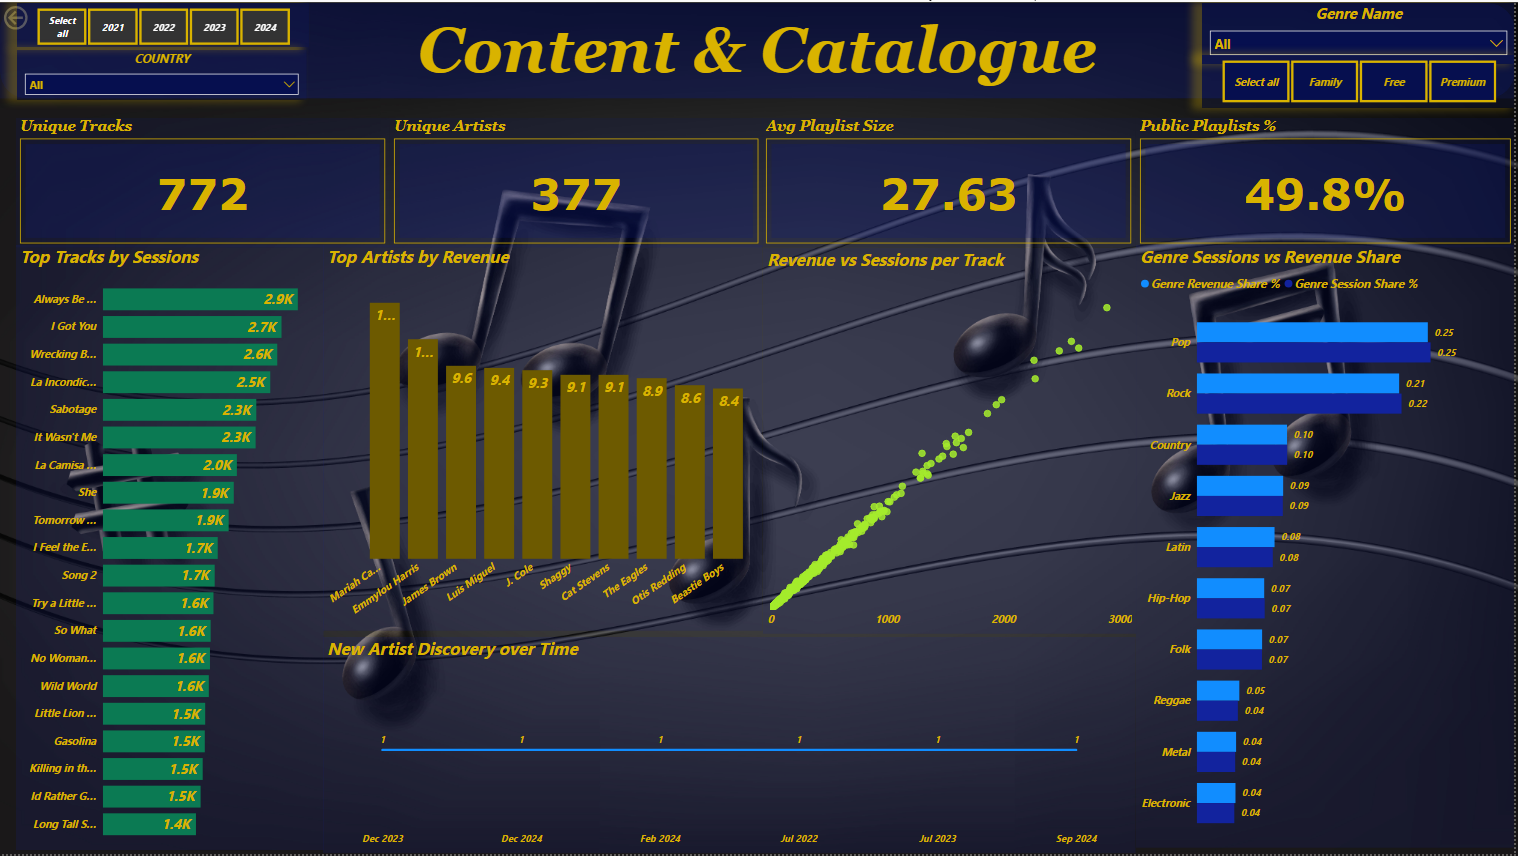

The page's visual inventory and layout, read from the dashboard file:
{"tool":"powerbi","page":{"name":"Content & Catalogue","canvas":[1920,1080],"ordinal":4},"visuals":[{"type":"shape","box":[0,1.5,1920,121.1],"z":0},{"type":"cardVisual","title":"Unique Artists","fields":{"Data":["bridge_playlist_track.Unique Artists Played"]},"box":[494.2,147.5,472.2,164.3],"z":1000},{"type":"actionButton","box":[0,0,100,40],"z":2000},{"type":"cardVisual","title":"Public Playlists %","fields":{"Data":["bridge_playlist_track.Public Playlist %"]},"box":[1440,147.5,480,164.3],"z":3000},{"type":"cardVisual","title":"Avg Playlist Size","fields":{"Data":["bridge_playlist_track.Avg Playlist Track Count"]},"box":[966.5,147.5,473.5,164.3],"z":4000},{"type":"group","id":"g1","title":"Group 2","box":[21,1.4,369.7,123.2],"z":5000},{"type":"cardVisual","title":"Unique Tracks","fields":{"Data":["bridge_playlist_track.Unique Tracks Played"]},"box":[20.7,147.5,473.5,164.3],"z":6000},{"type":"slicer","title":"Genre Name","fields":{"Values":["dim_genre.genre_name"]},"box":[1523.2,1.5,396.8,77.3],"z":7000},{"type":"lineChart","title":"New Artist Discovery over Time","fields":{"Category":["dim_date.Month-Year"],"Y":["bridge_playlist_track.New Artist Discovery Count"]},"box":[410,805.3,1030,274.3],"z":8000},{"type":"clusteredBarChart","title":"Top Tracks by Sessions","fields":{"Y":["bridge_playlist_track.Total Sessions"],"Category":["dim_track.title"]},"box":[20.4,307.8,389.5,767.4],"z":9000},{"type":"clusteredColumnChart","title":"Top Artists by Revenue","fields":{"Category":["dim_artist.artist_name"],"Y":["bridge_playlist_track.Total Session Revenue"]},"box":[410,307.8,557.3,488.8],"z":10000},{"type":"slicer","fields":{"Values":["dim_date.year"]},"box":[21,1.4,369.7,55.8],"z":11000,"group":"g1"},{"type":"clusteredBarChart","title":"Genre Sessions vs Revenue Share","fields":{"Category":["dim_genre.genre_name"],"Y":["bridge_playlist_track.Genre Revenue Share %","bridge_playlist_track.Genre Session Share %"]},"box":[1440,307.8,480,764.5],"z":11000},{"type":"slicer","title":"COUNTRY","fields":{"Values":["dim_country.country_name"]},"box":[21,61.6,367.3,63.1],"z":12000,"group":"g1"},{"type":"scatterChart","title":"Revenue vs Sessions per Track","fields":{"X":["bridge_playlist_track.Total Sessions"],"Y":["bridge_playlist_track.Total Revenue"],"Category":["dim_track.title"]},"box":[967.3,312.2,472.7,488.8],"z":12000},{"type":"slicer","fields":{"Values":["dim_user.subscription_tier"]},"box":[1523.2,67.1,396.8,67.1],"z":13000}]}

Visuals, with their boxes in screenshot pixels (x1, y1, x2, y2), scaled from the page's 1920x1080 canvas onto the 1518x856 screenshot:
shape: (0, 1, 1517, 97)
"Unique Artists" cardVisual: (391, 117, 764, 247)
actionButton: (0, 0, 79, 32)
"Public Playlists %" cardVisual: (1138, 117, 1517, 247)
"Avg Playlist Size" cardVisual: (764, 117, 1138, 247)
"Group 2" group: (17, 1, 309, 99)
"Unique Tracks" cardVisual: (16, 117, 391, 247)
"Genre Name" slicer: (1204, 1, 1517, 62)
"New Artist Discovery over Time" lineChart: (324, 638, 1138, 855)
"Top Tracks by Sessions" clusteredBarChart: (16, 244, 324, 852)
"Top Artists by Revenue" clusteredColumnChart: (324, 244, 765, 631)
slicer - dim_date.year: (17, 1, 309, 45)
"Genre Sessions vs Revenue Share" clusteredBarChart: (1138, 244, 1517, 850)
"COUNTRY" slicer: (17, 49, 307, 99)
"Revenue vs Sessions per Track" scatterChart: (765, 247, 1138, 635)
slicer - dim_user.subscription_tier: (1204, 53, 1517, 106)
